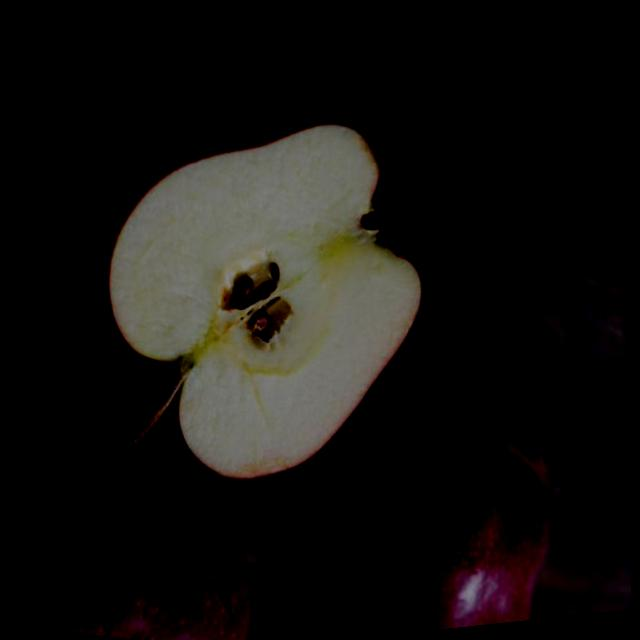Apple: (82, 107, 436, 490), (245, 382, 562, 640), (6, 370, 258, 640)
